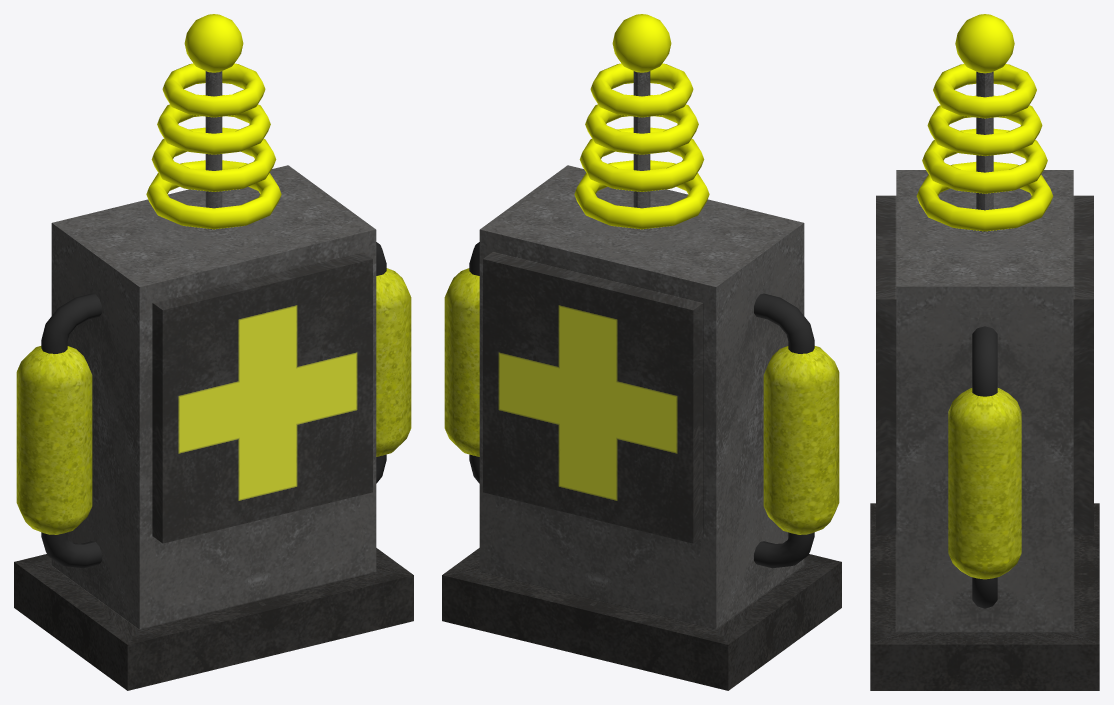
Rendered from healing_station.fbx.
The picture shows the model from 3 angles, left to right: view 1: azimuth 30°, elevation 25°; view 2: azimuth 150°, elevation 25°; view 3: azimuth 270°, elevation 25°; orthographic projection.
Visible parts, largest first — view 1: polySurface3; view 2: polySurface3; view 3: polySurface3.
Part boxes in pixels (<box>): polySurface3: <box>14,14,413,690</box>; polySurface3: <box>442,14,841,690</box>; polySurface3: <box>870,14,1099,690</box>.
Size of the model in its own units: 11.5 by 17.07 by 5.88.
